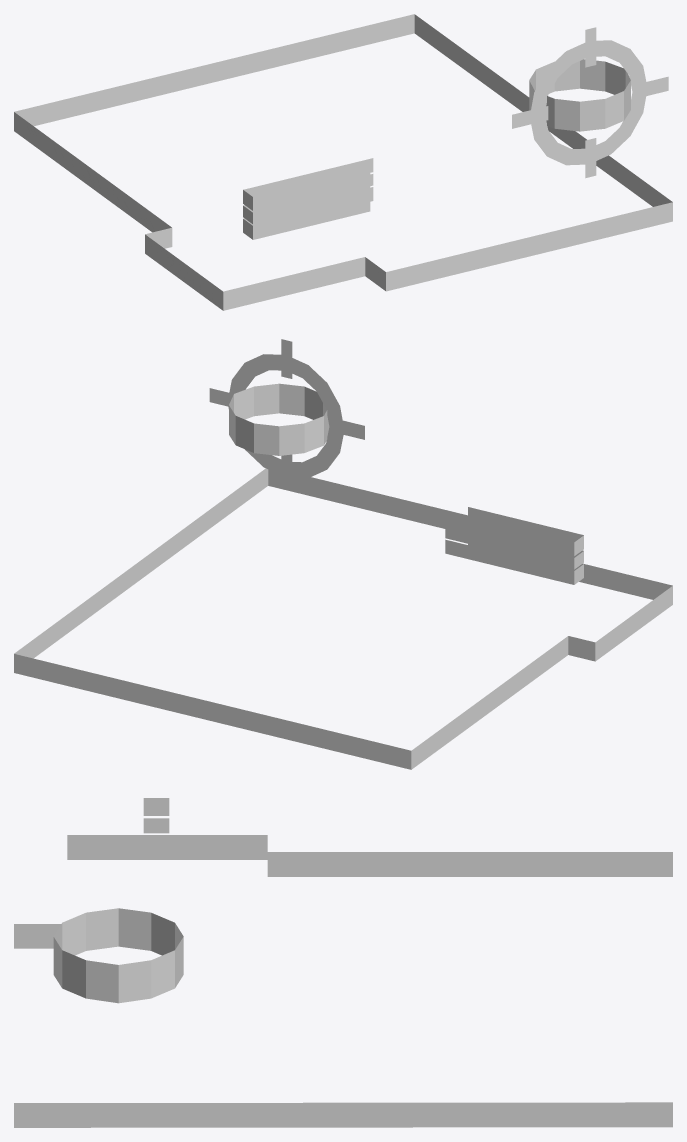
The model's file is vgsn_burgsht_neon.obj.
3 views of the same model, one above another, from view 1: azimuth 30°, elevation 25°; view 2: azimuth 150°, elevation 25°; view 3: azimuth 270°, elevation 25° (orthographic). The views are drawn at different scales.
Visible parts, largest first — view 1: VGSN_burgsht_neon; view 2: VGSN_burgsht_neon; view 3: VGSN_burgsht_neon.
Part boxes in pixels (x1,y1,x2,y2): VGSN_burgsht_neon: (14,14,672,310); VGSN_burgsht_neon: (14,339,672,769); VGSN_burgsht_neon: (14,798,672,1127).
Bounding box in the file's own units: 30.52 × 11.64 × 29.81.
Materials: 1 (1 with a texture image).
